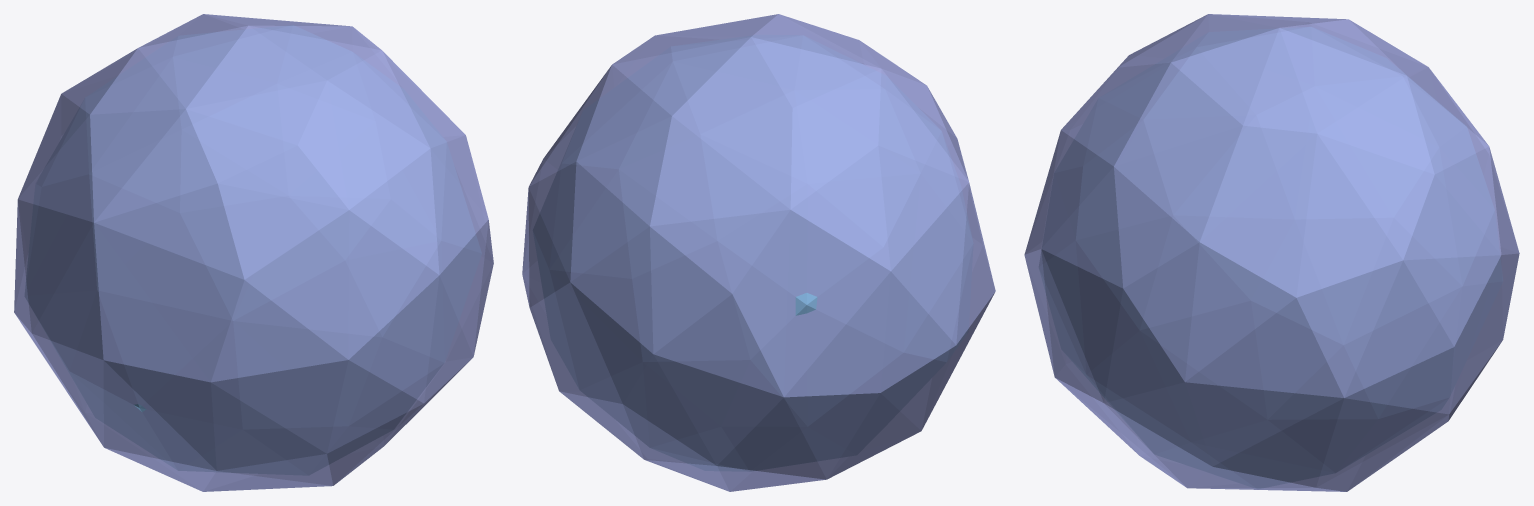
File: Europa(moon).fbx
3 views of the same model, side by side, from view 1: azimuth 30°, elevation 25°; view 2: azimuth 150°, elevation 25°; view 3: azimuth 270°, elevation 25° (orthographic). The views are drawn at different scales.
Visible parts, largest first — view 1: Europa(moon); view 2: Europa(moon); view 3: Europa(moon).
Boxes of the visible parts, bbox=[...] form: Europa(moon): bbox=[14, 14, 493, 491]; Europa(moon): bbox=[522, 14, 995, 491]; Europa(moon): bbox=[1024, 14, 1519, 491].
Size of the model in its own units: 210 by 215 by 213.
